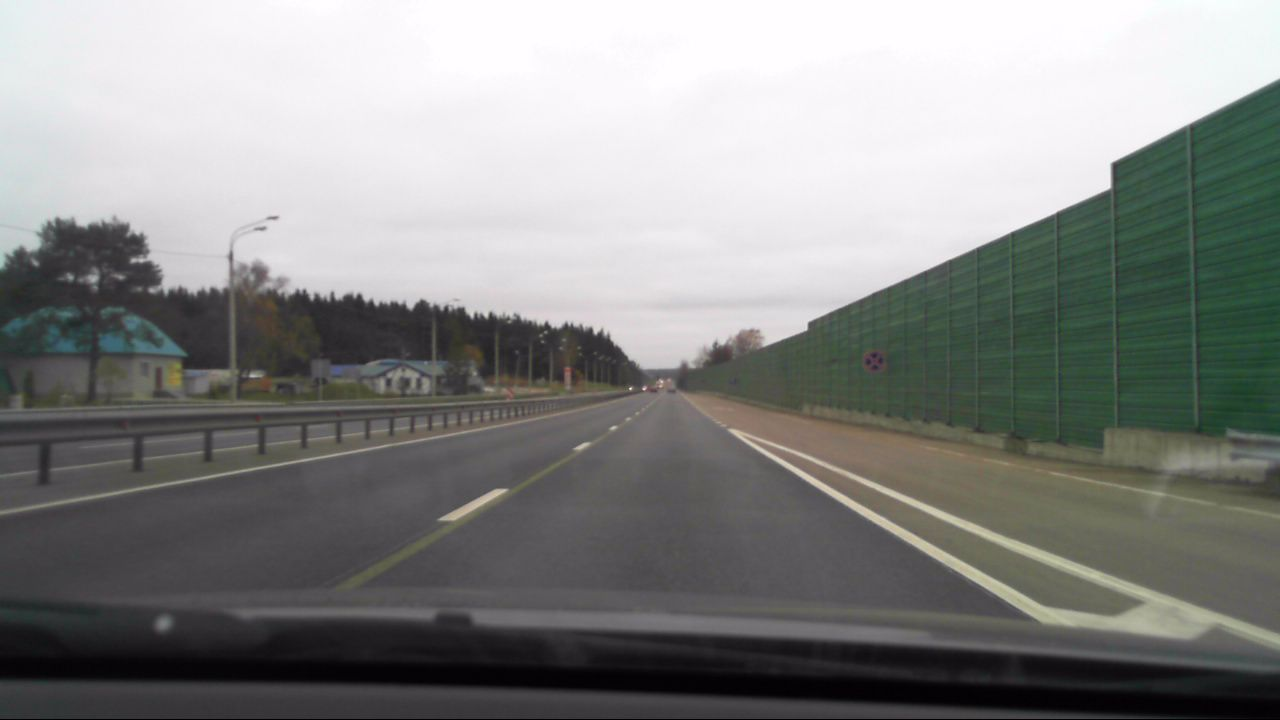No Parking: (863, 350, 886, 373)
